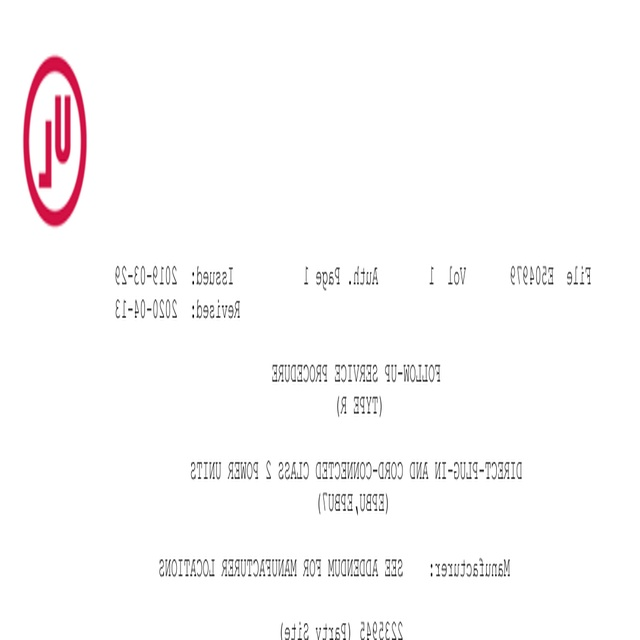ul: (22, 53, 89, 230)
